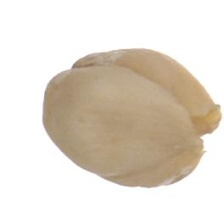L1: (187, 97, 221, 160)
L2: (42, 47, 220, 189)
